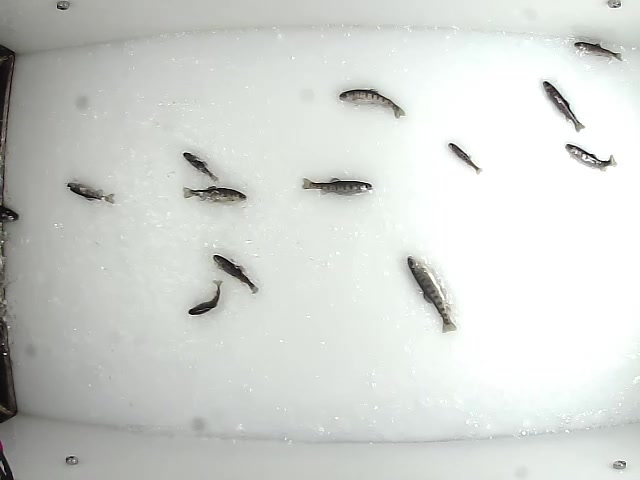fish: (405, 253, 459, 336), (541, 79, 586, 135), (337, 88, 407, 121), (211, 252, 259, 296), (300, 175, 375, 197), (564, 142, 616, 172), (185, 277, 224, 316), (181, 184, 248, 205), (572, 39, 626, 63), (180, 149, 218, 182), (65, 181, 119, 204), (445, 141, 481, 174)
